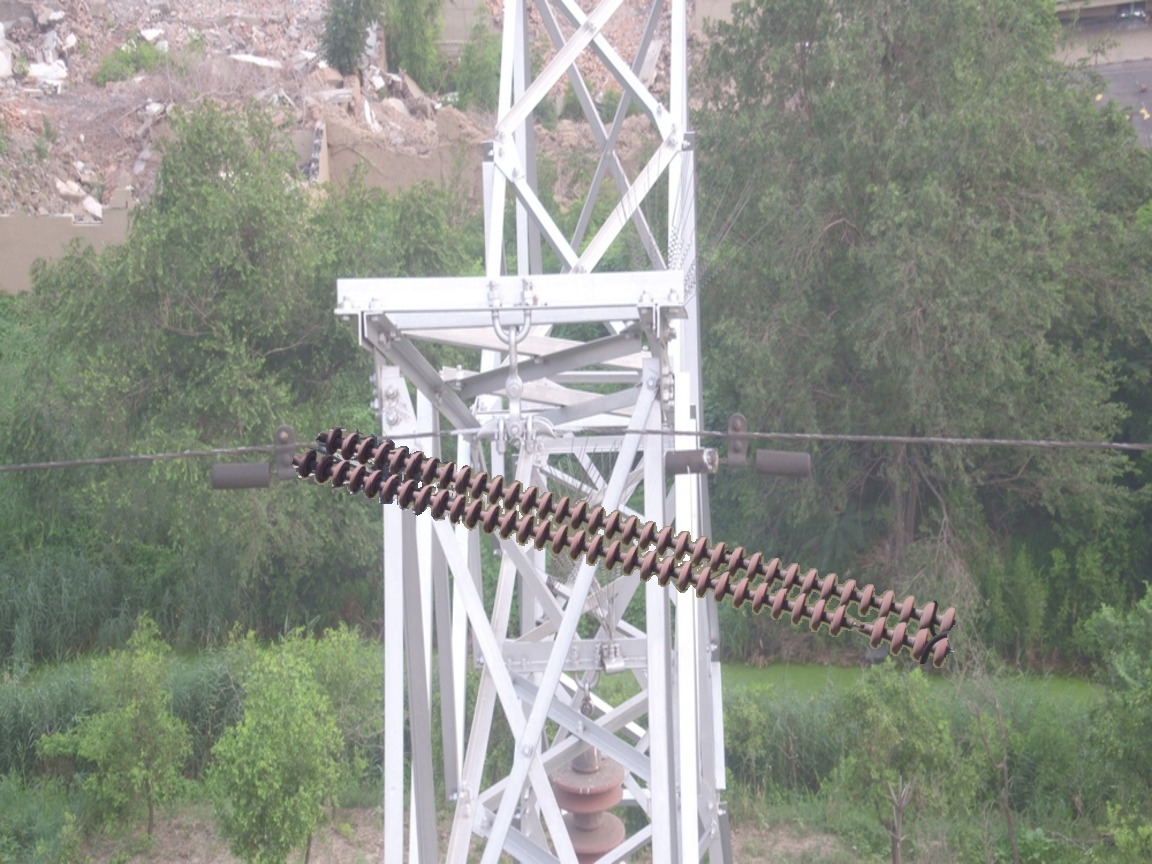defect: (824, 602, 892, 646)
